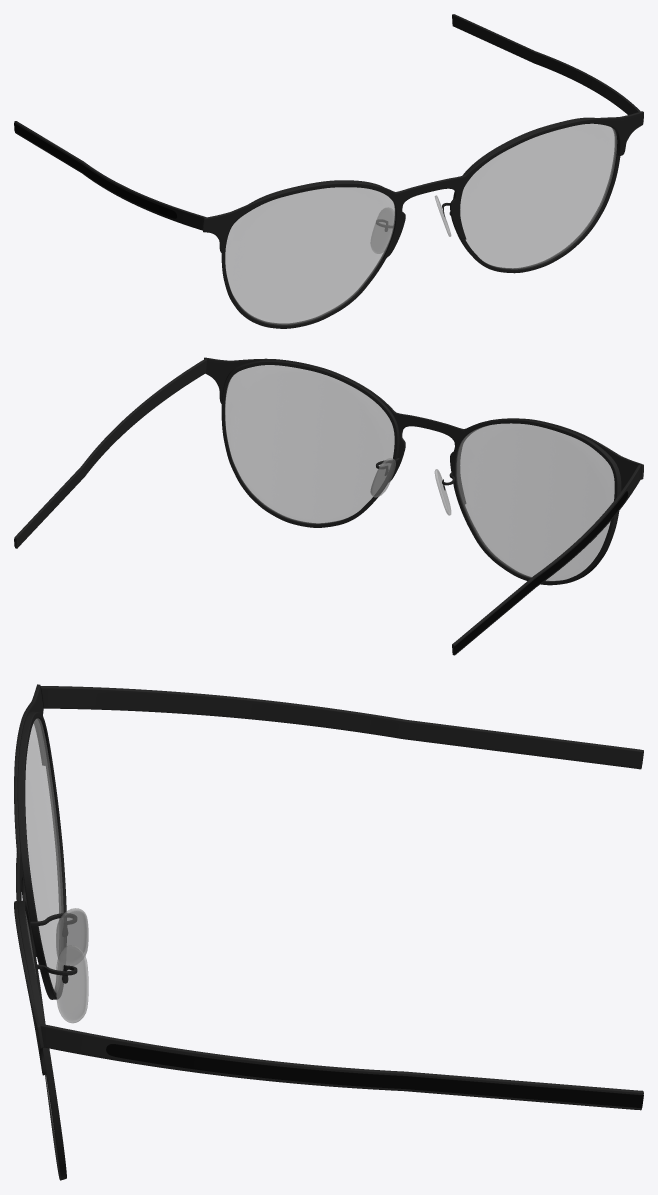
The model's file is RB_6375_app.gltf.
3 views of the same model, one above another, from view 1: azimuth 30°, elevation 25°; view 2: azimuth 150°, elevation 25°; view 3: azimuth 270°, elevation 25° (orthographic). The views are drawn at different scales.
Parts seen in each view (by area): view 1: Lentes, armacao, det hastes, Pontes; view 2: Lentes, armacao, det hastes, Pontes; view 3: armacao, det hastes, Lentes, Pontes.
Boxes of the visible parts, left/top/right/bottom form: Lentes: left=225, top=123, right=616, bottom=324; armacao: left=14, top=14, right=643, bottom=328; det hastes: left=14, top=123, right=177, bottom=218; Pontes: left=370, top=195, right=451, bottom=253; Lentes: left=225, top=365, right=614, bottom=580; armacao: left=14, top=357, right=643, bottom=655; det hastes: left=14, top=491, right=628, bottom=654; Pontes: left=370, top=458, right=451, bottom=515; armacao: left=14, top=684, right=643, bottom=1180; det hastes: left=106, top=752, right=643, bottom=1107; Lentes: left=25, top=718, right=63, bottom=1130; Pontes: left=56, top=908, right=88, bottom=1023.
Size of the model in its own units: 0.1607 by 0.0497 by 0.118.
Materials: 4 (4 with a texture image).
